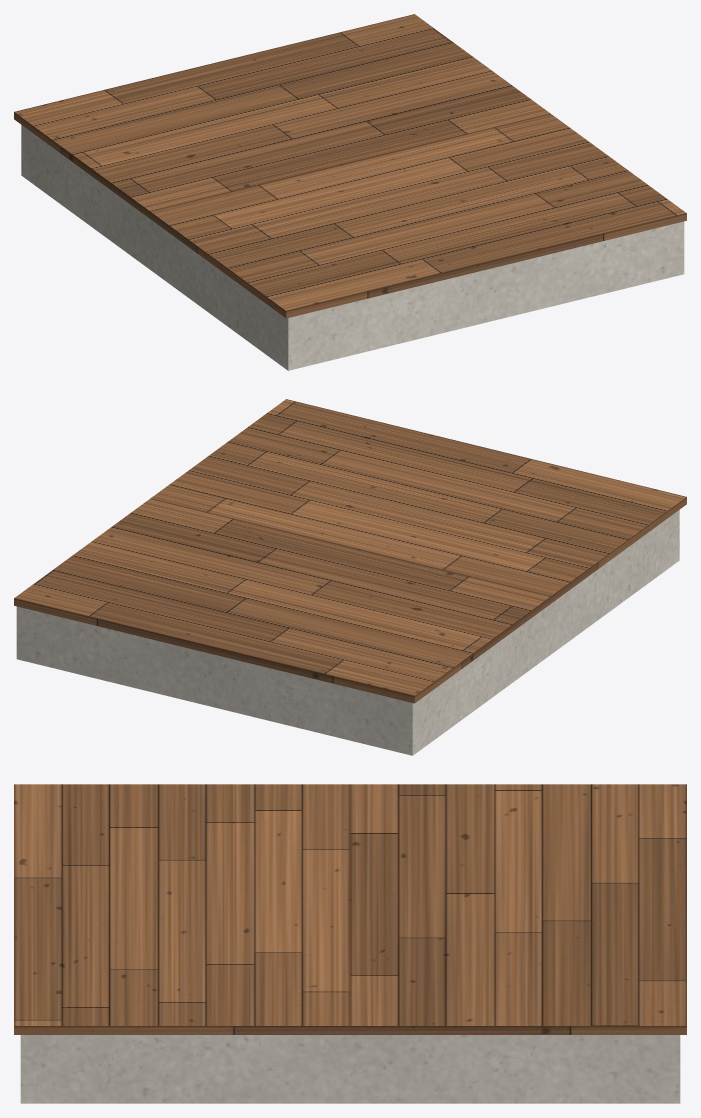
File: floor_floor_u_e0100.glb
3 renders of one model, top to bottom at view 1: azimuth 30°, elevation 25°; view 2: azimuth 150°, elevation 25°; view 3: azimuth 270°, elevation 25°, orthographic. The views are drawn at different scales.
Parts seen in each view (by area): view 1: floor_floor_u_e0100_floor, floor_floor_u_e0100_plaster; view 2: floor_floor_u_e0100_floor, floor_floor_u_e0100_plaster; view 3: floor_floor_u_e0100_floor, floor_floor_u_e0100_plaster.
Boxes of the visible parts, left/top/right/bottom form: floor_floor_u_e0100_floor: left=14, top=14, right=686, bottom=318; floor_floor_u_e0100_plaster: left=21, top=125, right=684, bottom=370; floor_floor_u_e0100_floor: left=14, top=399, right=686, bottom=703; floor_floor_u_e0100_plaster: left=16, top=510, right=679, bottom=755; floor_floor_u_e0100_floor: left=14, top=784, right=686, bottom=1034; floor_floor_u_e0100_plaster: left=20, top=1035, right=680, bottom=1103.
Size of the model in its own units: 1.7 by 0.255 by 2.
2 materials, 2 textured.
